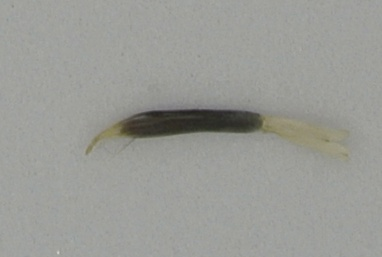เมล้ดปลายพู่กัน: (84, 108, 354, 165)
